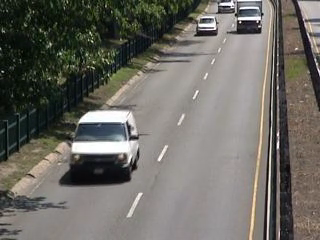car: (193, 14, 220, 37), (216, 1, 236, 15)
truck: (63, 108, 144, 183), (236, 1, 264, 35)
